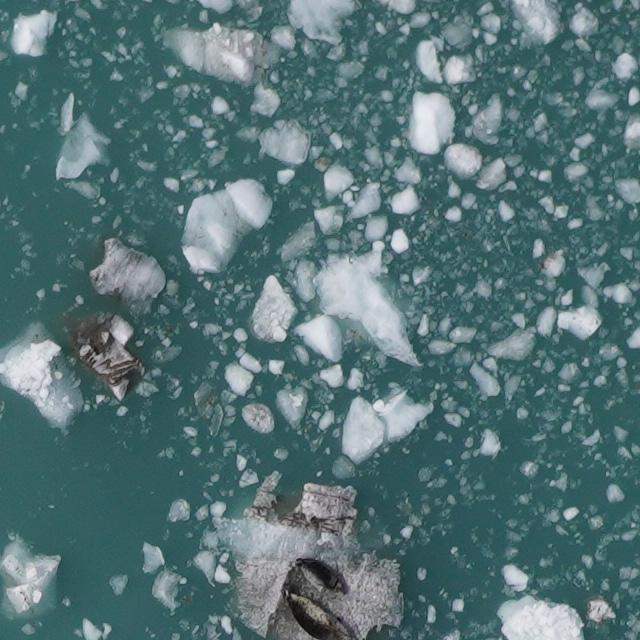seal: (289, 548, 351, 608)
